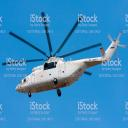helicopter: (4, 12, 128, 97)
